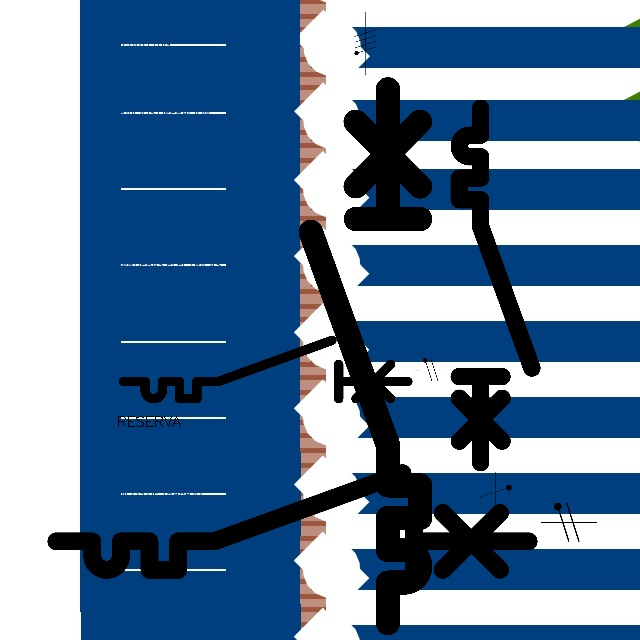interruptor_termomagnetico: (297, 75, 434, 637), (44, 461, 540, 582), (450, 99, 541, 471), (116, 333, 415, 406)
